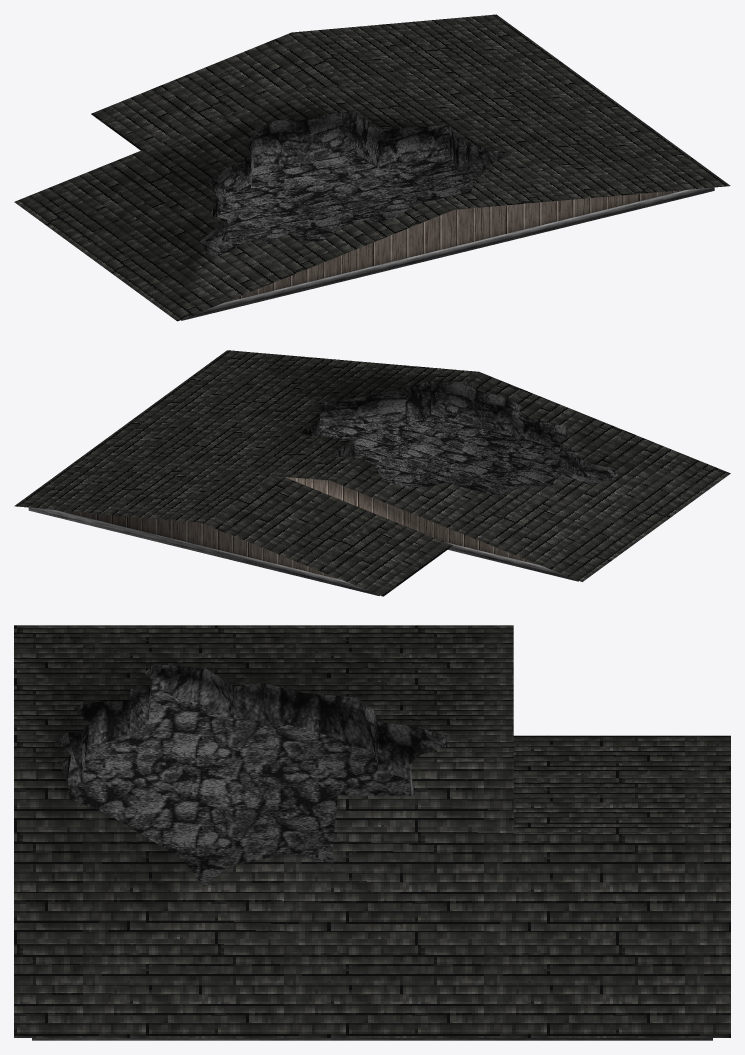
The model's file is roof11.obj.
3 views of the same model, one above another, from view 1: azimuth 30°, elevation 25°; view 2: azimuth 150°, elevation 25°; view 3: azimuth 270°, elevation 25° (orthographic). The views are drawn at different scales.
Parts seen in each view (by area): view 1: PRLD07B.002; view 2: PRLD07B.002; view 3: PRLD07B.002.
Part boxes in pixels (left/top/right/bottom): PRLD07B.002: left=14, top=14, right=730, bottom=321; PRLD07B.002: left=14, top=350, right=730, bottom=596; PRLD07B.002: left=14, top=625, right=730, bottom=1040.
Size of the model in its own units: 540 by 47 by 396.
